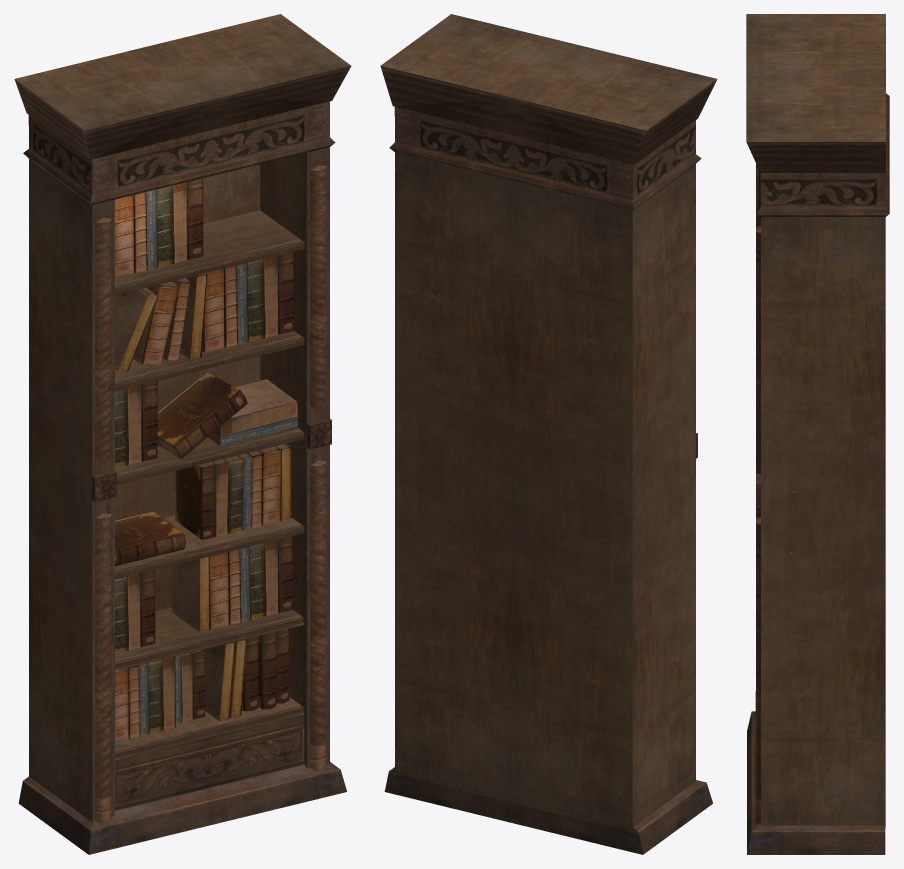
File: BookDesk.fbx
3 renders of one model, left to right at view 1: azimuth 30°, elevation 25°; view 2: azimuth 150°, elevation 25°; view 3: azimuth 270°, elevation 25°, orthographic.
Visible parts, largest first — view 1: LV_Compagna_Object_BookShelf01_SM_NWCTCY; view 2: LV_Compagna_Object_BookShelf01_SM_NWCTCY; view 3: LV_Compagna_Object_BookShelf01_SM_NWCTCY.
Boxes of the visible parts, left/top/right/bottom form: LV_Compagna_Object_BookShelf01_SM_NWCTCY: left=14, top=14, right=351, bottom=854; LV_Compagna_Object_BookShelf01_SM_NWCTCY: left=380, top=14, right=717, bottom=854; LV_Compagna_Object_BookShelf01_SM_NWCTCY: left=746, top=14, right=889, bottom=854.
Bounding box in the file's own units: 0.4119 × 1.07 × 0.1948.
Materials: 1 (1 with a texture image).
